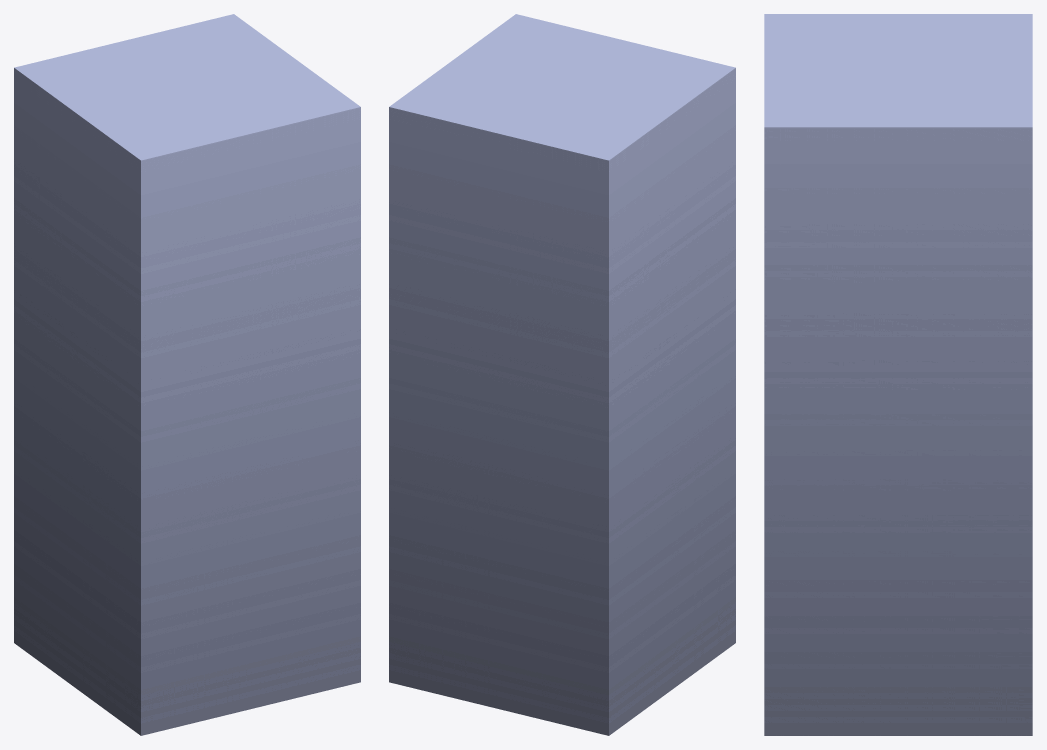
The model's file is prototype-kit--column-low.glb.
The picture shows the model from 3 angles, left to right: view 1: azimuth 30°, elevation 25°; view 2: azimuth 150°, elevation 25°; view 3: azimuth 270°, elevation 25°; orthographic projection. The views are drawn at different scales.
Visible parts, largest first — view 1: column-low; view 2: column-low; view 3: column-low.
Boxes of the visible parts, left/top/right/bottom form: column-low: left=14, top=14, right=360, bottom=735; column-low: left=389, top=14, right=735, bottom=735; column-low: left=764, top=14, right=1032, bottom=735.
Size of the model in its own units: 0.2 by 0.5 by 0.2.
1 material, 1 textured.
